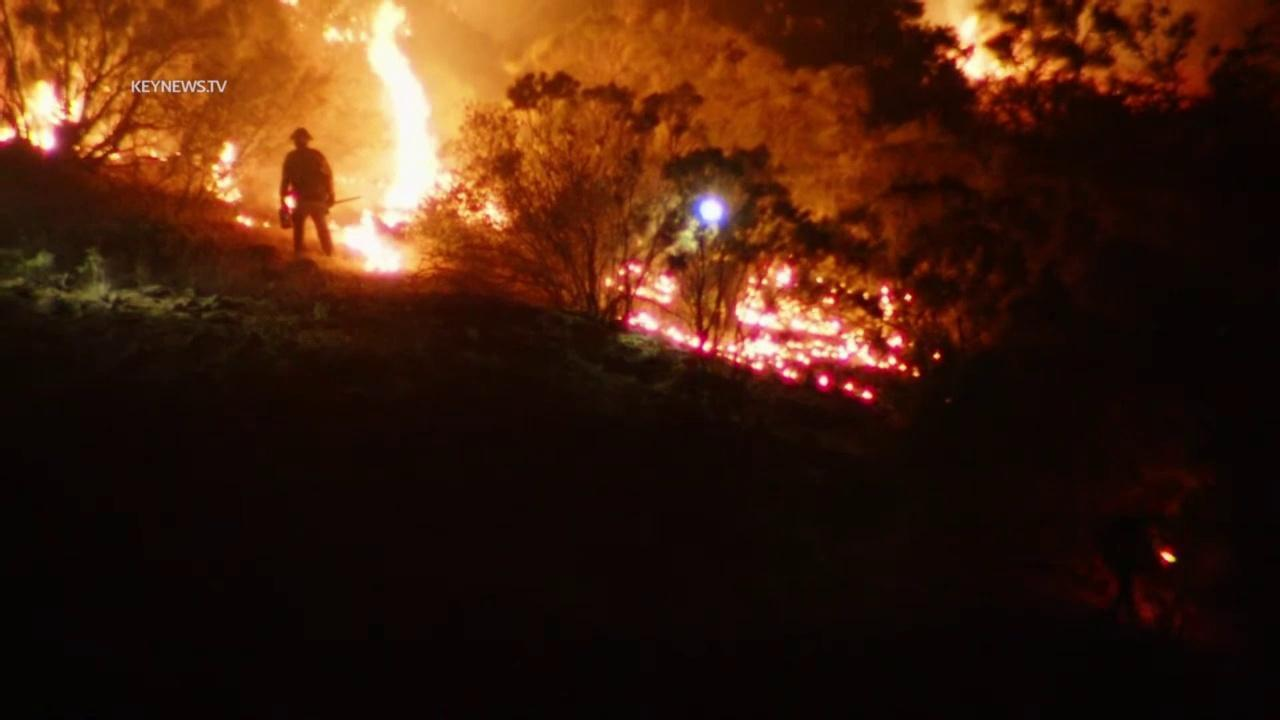fire: (597, 261, 923, 415), (317, 1, 462, 279), (0, 79, 87, 155), (942, 11, 1021, 93), (201, 140, 244, 205), (473, 192, 516, 236), (233, 213, 271, 232), (279, 184, 299, 213), (1156, 547, 1177, 566), (932, 353, 943, 363)
smoke: (0, 0, 841, 272)
